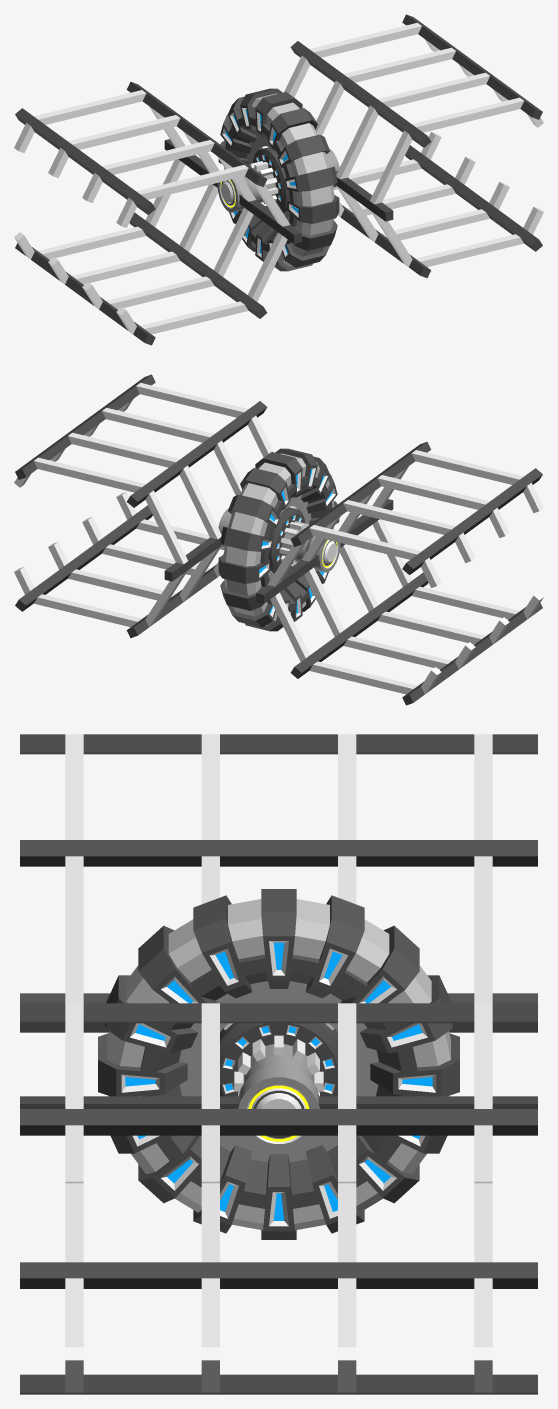
File: Station02.fbx
3 renders of one model, top to bottom at view 1: azimuth 30°, elevation 25°; view 2: azimuth 150°, elevation 25°; view 3: azimuth 270°, elevation 25°, orthographic. The views are drawn at different scales.
Visible parts, largest first — view 1: Base_HD, Rotating_HD; view 2: Base_HD, Rotating_HD; view 3: Base_HD, Rotating_HD.
Part boxes in pixels (x1,y1,x2,y2): Base_HD: (14,14,543,345); Rotating_HD: (218,88,339,271); Base_HD: (14,374,543,705); Rotating_HD: (218,448,339,631); Base_HD: (20,734,537,1394); Rotating_HD: (98,889,459,1239).
Bounding box in the file's own units: 2150 × 796 × 1140.
